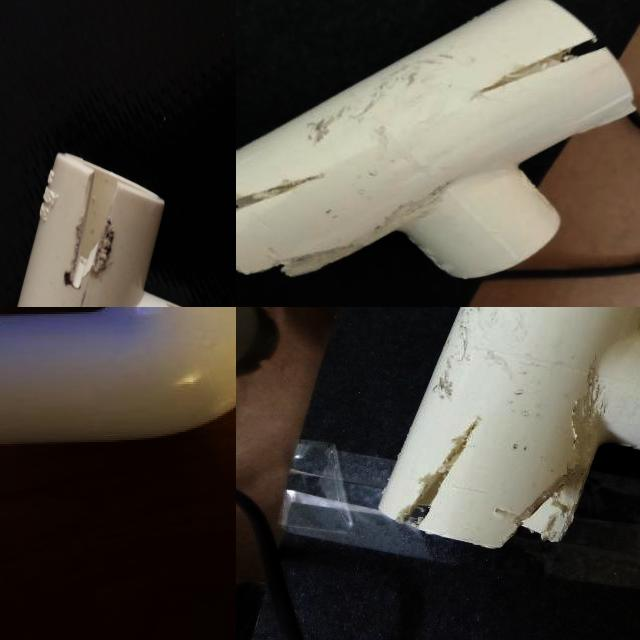Defective: (522, 369, 607, 546), (401, 418, 481, 528), (505, 24, 607, 90), (0, 141, 72, 200), (240, 171, 328, 207), (236, 199, 286, 227), (474, 46, 494, 57)
L Joint: (0, 307, 236, 448), (0, 83, 83, 269)
T Joint: (236, 0, 638, 281), (377, 307, 640, 553)
